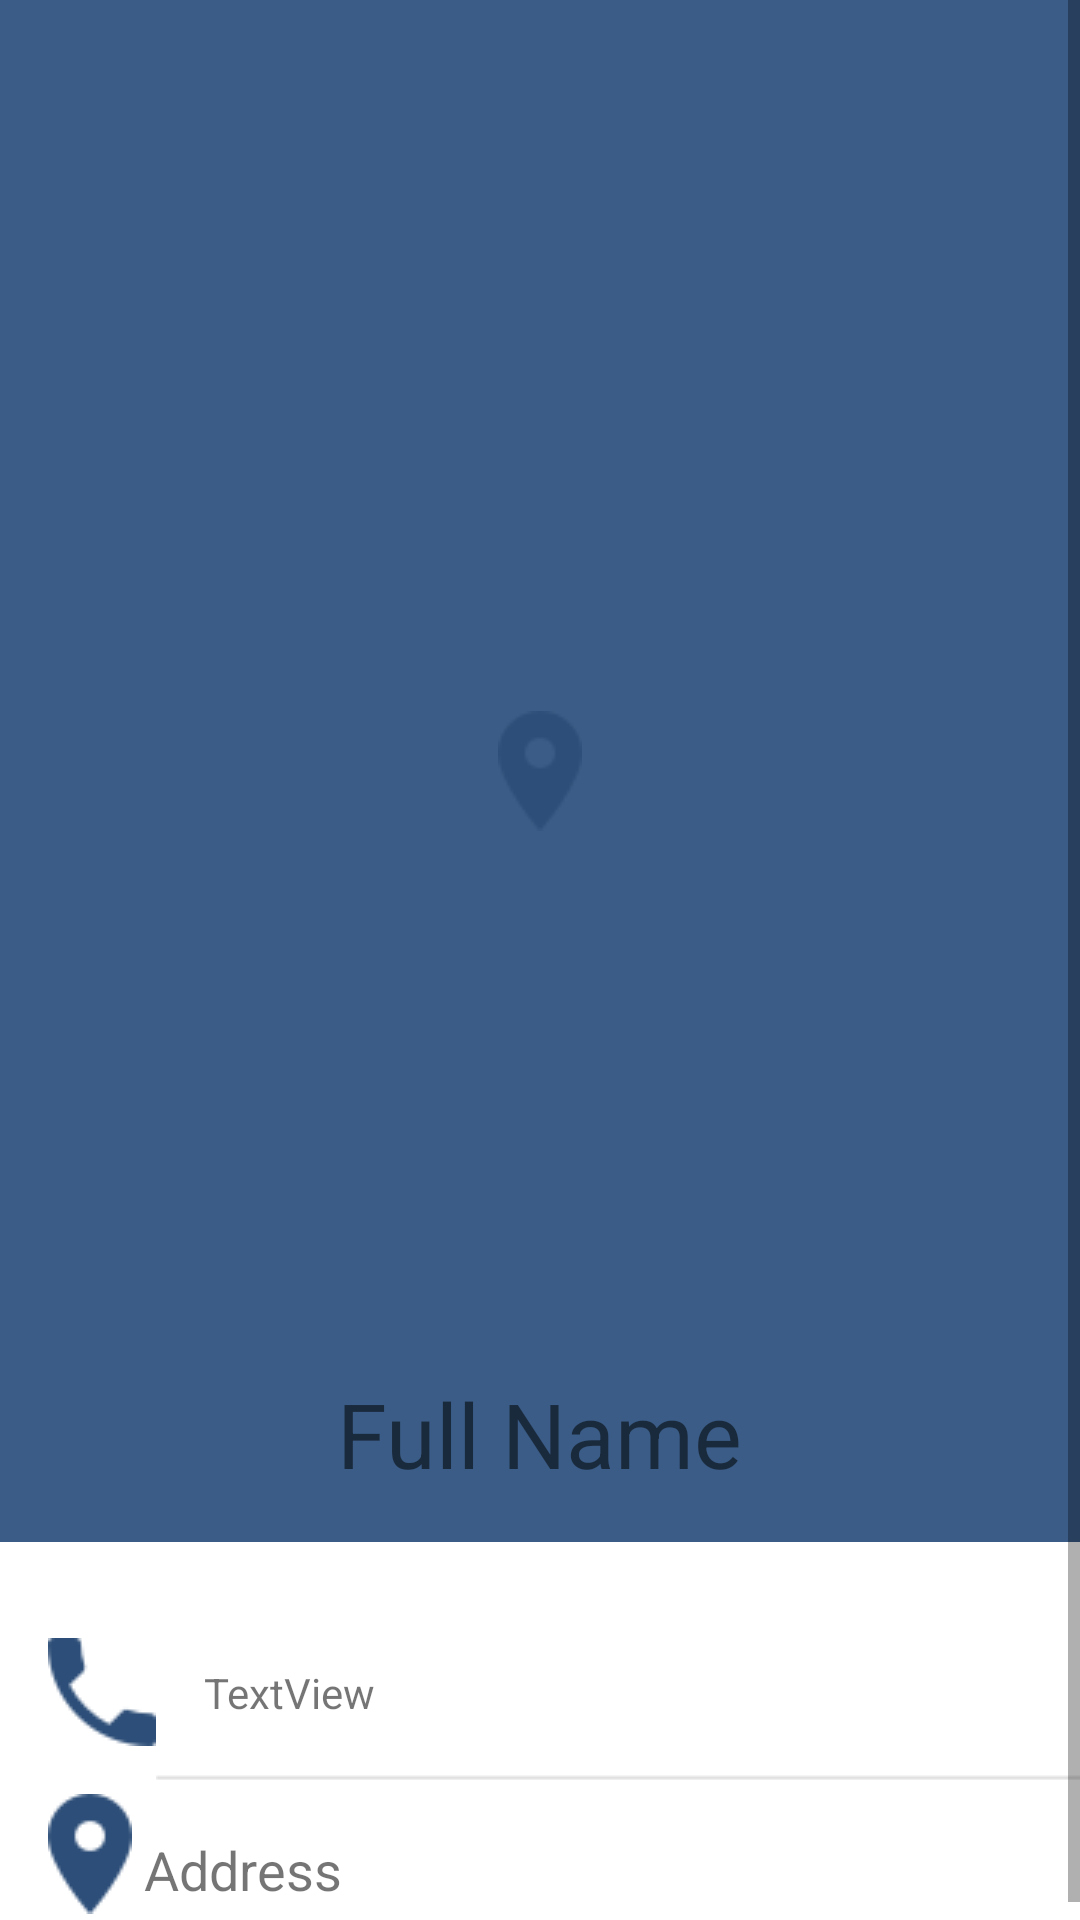

Named icons in this screenshot (1080*1920) and their bounding boxes, (x1, y1, x2, y2):
call: (48, 1638, 156, 1746)
